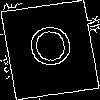O: (25, 24, 78, 76)
